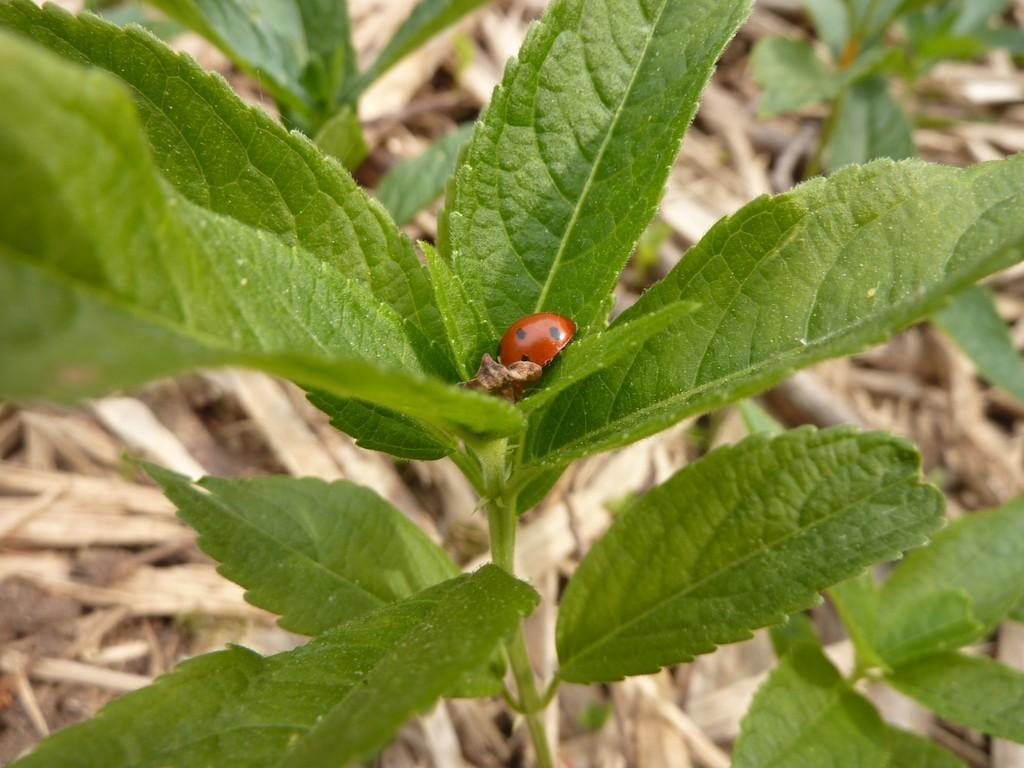ladybug: (493, 309, 583, 381)
